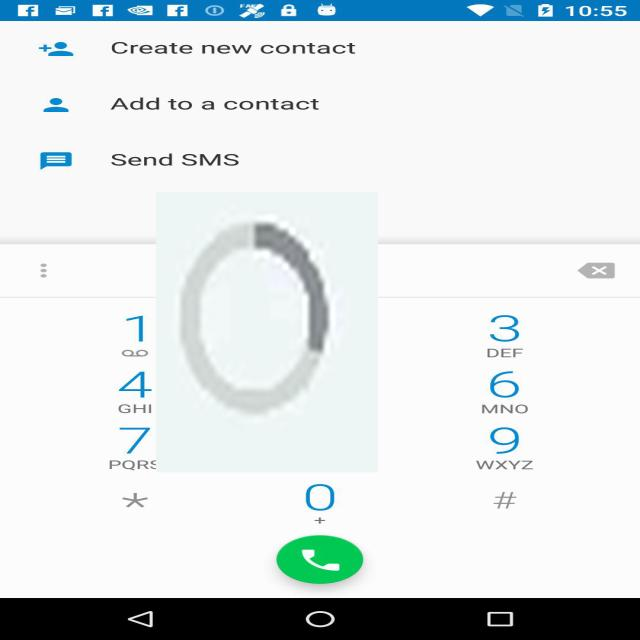misdirection: (156, 192, 378, 472)
